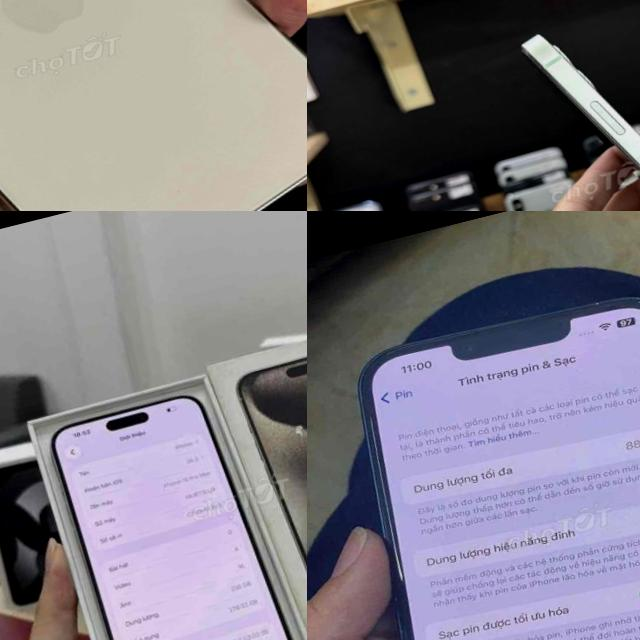gen_12_13: (512, 0, 640, 211)
gen_14: (311, 270, 640, 640), (0, 0, 307, 211)
gen_15: (37, 362, 307, 640)
